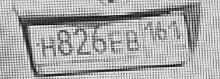license-plateSW: (27, 13, 193, 61)
